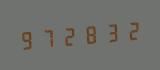eight: (81, 19, 101, 48)
nine: (17, 25, 37, 53)
seven: (38, 23, 58, 51)
three: (102, 18, 122, 46)
two: (60, 21, 80, 49), (123, 16, 143, 44)
